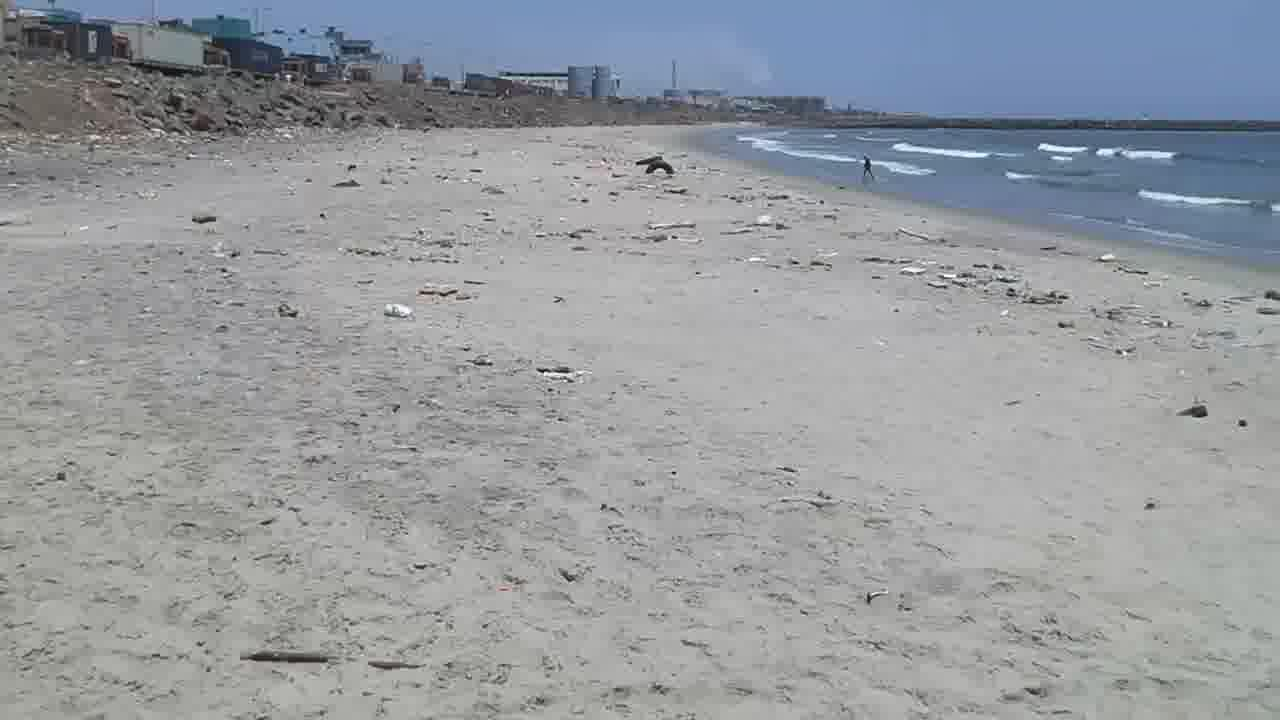large collection of objects: (922, 267, 978, 295), (1028, 286, 1070, 306), (632, 156, 674, 174), (418, 281, 458, 298), (862, 156, 876, 182), (384, 306, 414, 318)
obj: (237, 648, 335, 664), (370, 660, 428, 670), (192, 216, 218, 224)
sand/background: (0, 0, 1279, 292)
